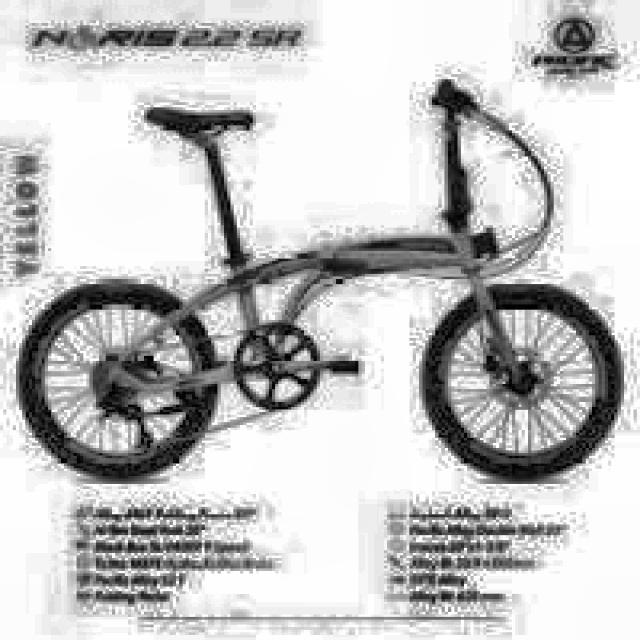bike: (12, 94, 639, 494)
